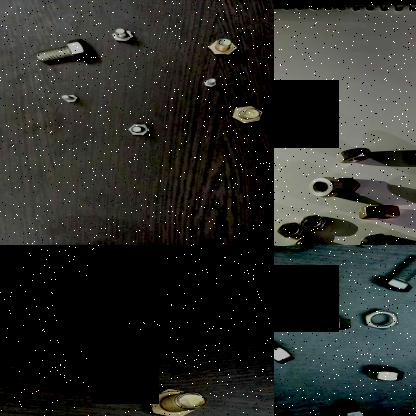Bolts: (288, 271, 356, 331), (135, 385, 212, 416), (370, 250, 416, 294), (34, 39, 96, 65), (228, 103, 265, 129), (200, 37, 240, 57), (122, 120, 154, 138), (56, 90, 84, 108), (109, 27, 135, 43), (200, 76, 220, 88)
NUTS: (360, 306, 410, 334), (359, 361, 416, 382), (306, 174, 343, 200), (332, 145, 380, 165), (356, 201, 404, 221), (274, 341, 303, 365), (330, 174, 360, 197), (274, 219, 306, 239), (300, 212, 330, 233), (335, 401, 374, 416), (355, 232, 395, 245), (291, 235, 326, 245), (406, 149, 416, 169)
